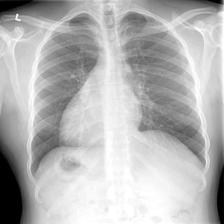normal: (24, 4, 212, 199)
